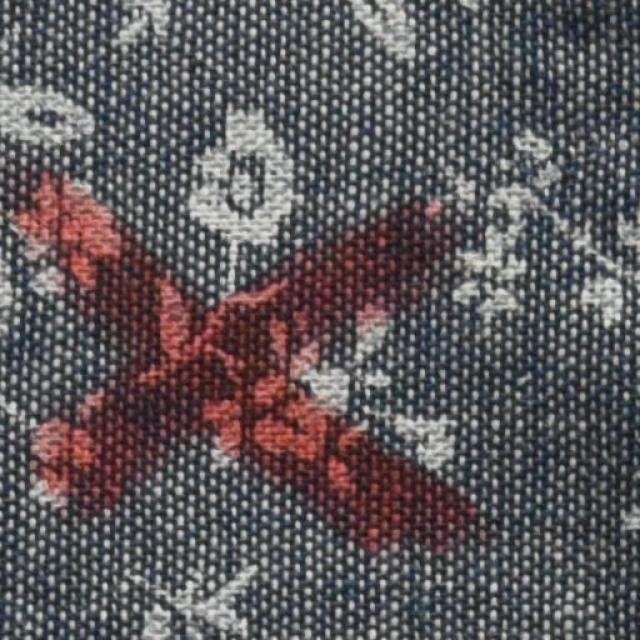Stain: (9, 172, 476, 540)
